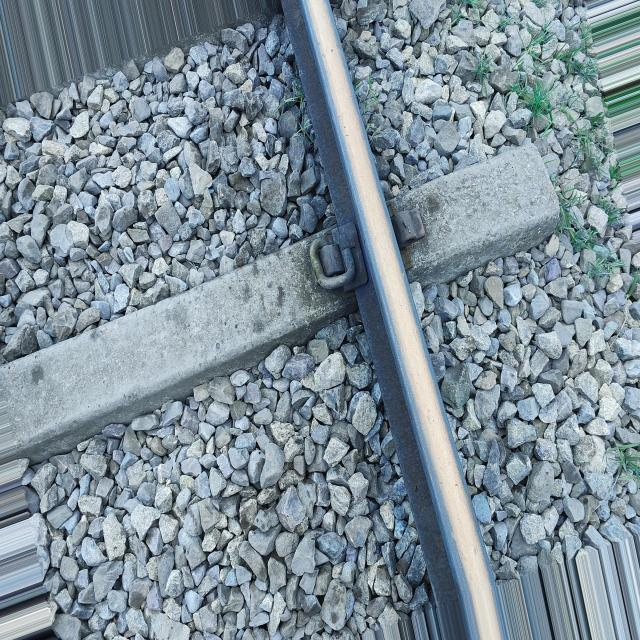Good Fasteners: (298, 219, 368, 301)
Missing Fastener: (386, 198, 433, 256)
